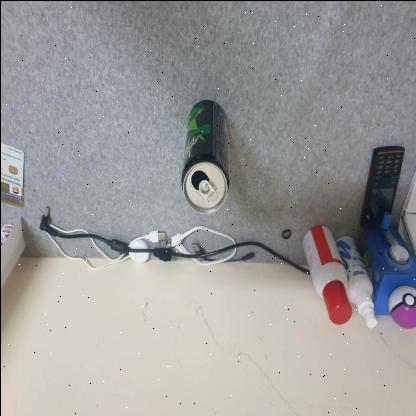Can: (179, 97, 229, 213)
